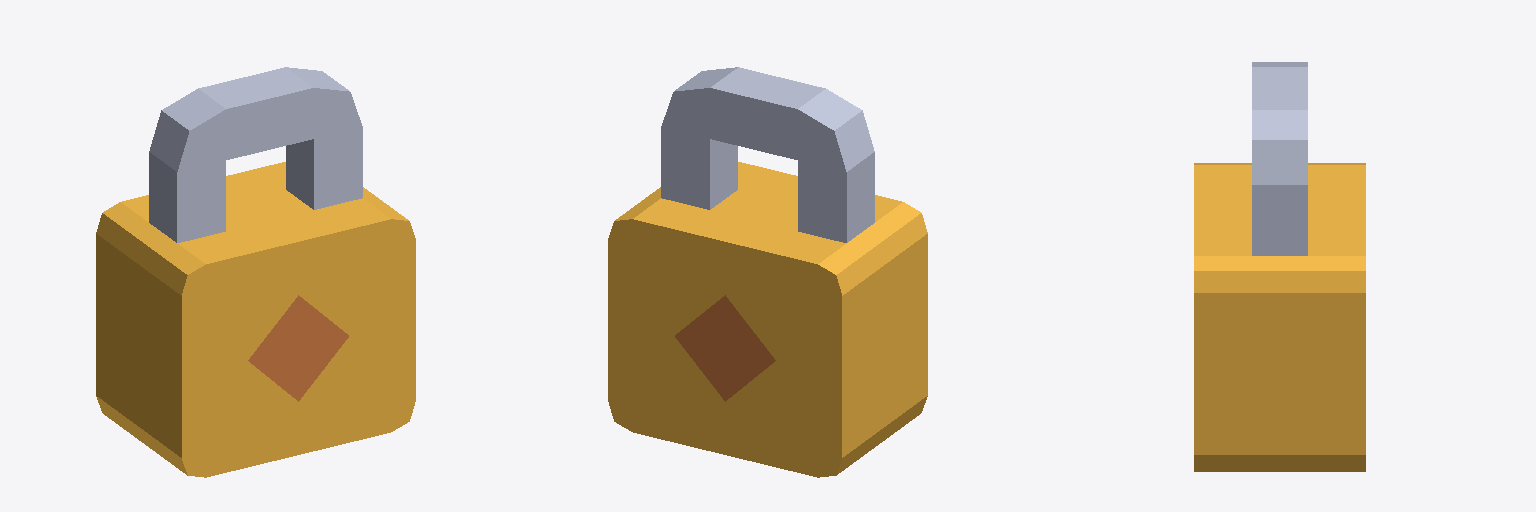
File: lock.obj
3 views of the same model, side by side, from view 1: azimuth 30°, elevation 25°; view 2: azimuth 150°, elevation 25°; view 3: azimuth 270°, elevation 25° (orthographic).
Visible parts, largest first — view 1: lock; view 2: lock; view 3: lock.
Part boxes in pixels (left/top/right/bottom): lock: left=96, top=67, right=415, bottom=477; lock: left=608, top=67, right=927, bottom=477; lock: left=1194, top=62, right=1365, bottom=471.
Bounding box in the file's own units: 0.2932 × 0.4012 × 0.1853.